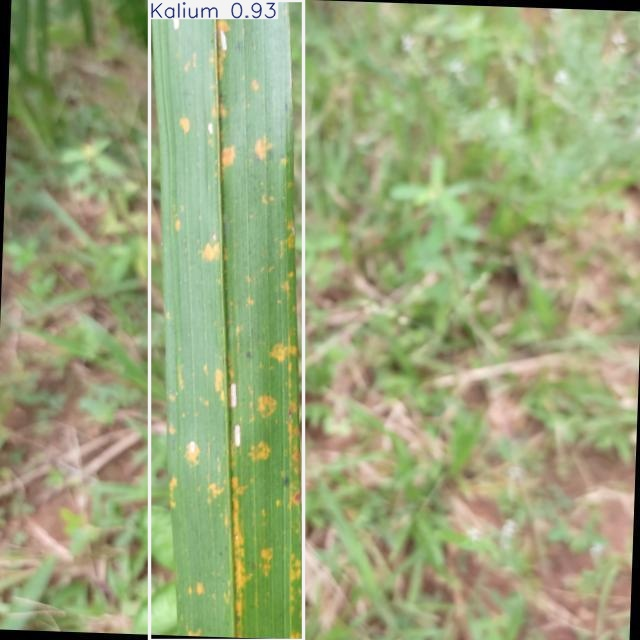Kalium: (149, 0, 304, 640)
